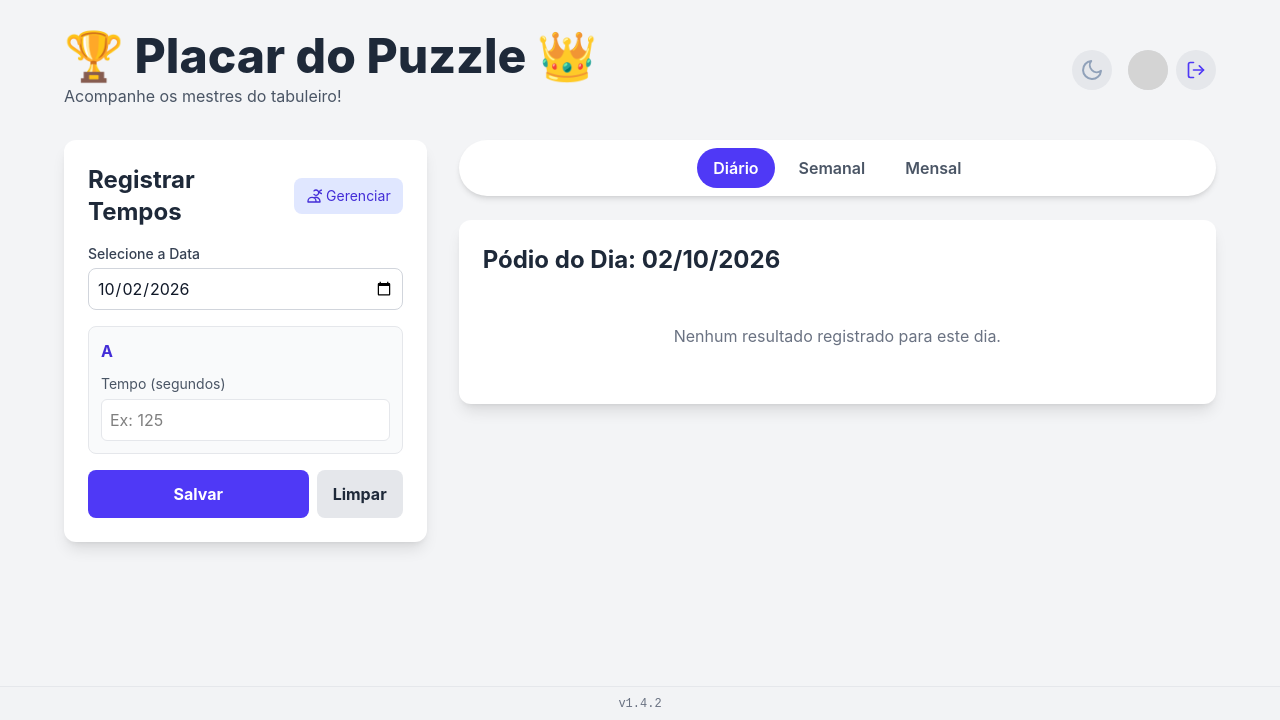
App › switches weekly view when Semanal is clicked
Click the button "Semanal": (832, 168) [783,148,881,188]
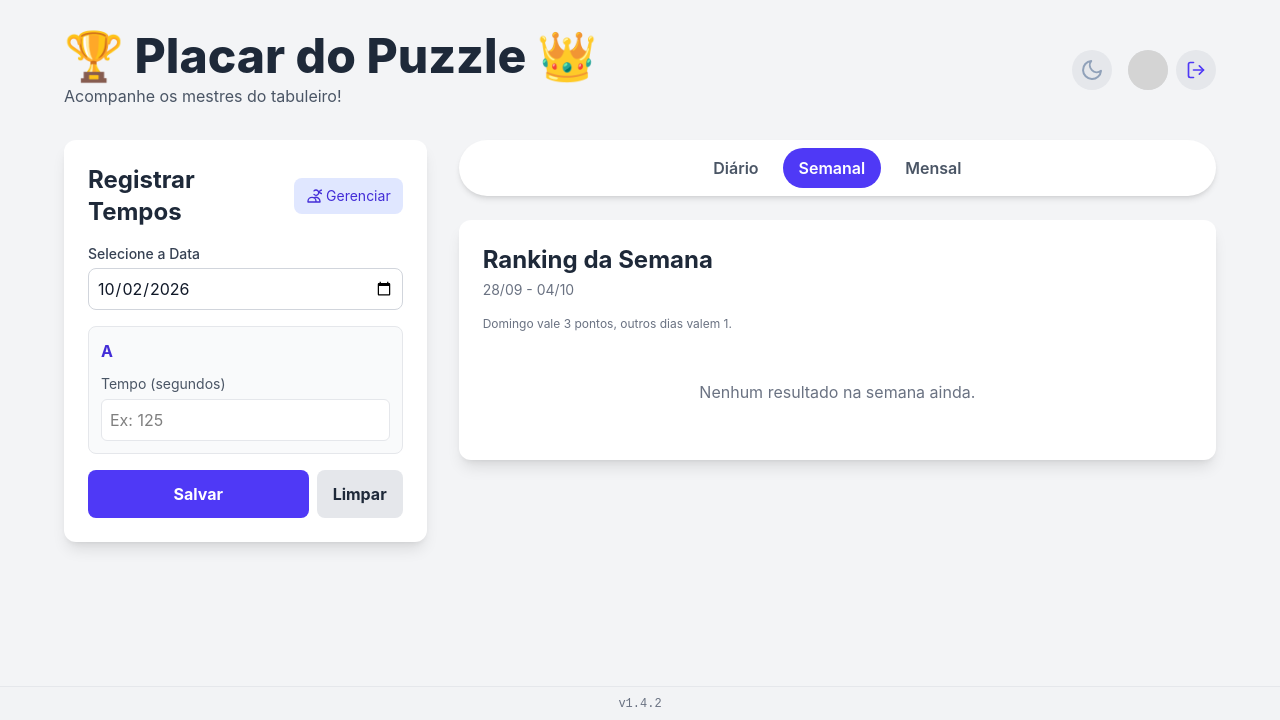
Expected: the heading "Ranking da Semana" is shown, [483,245,713,274]
